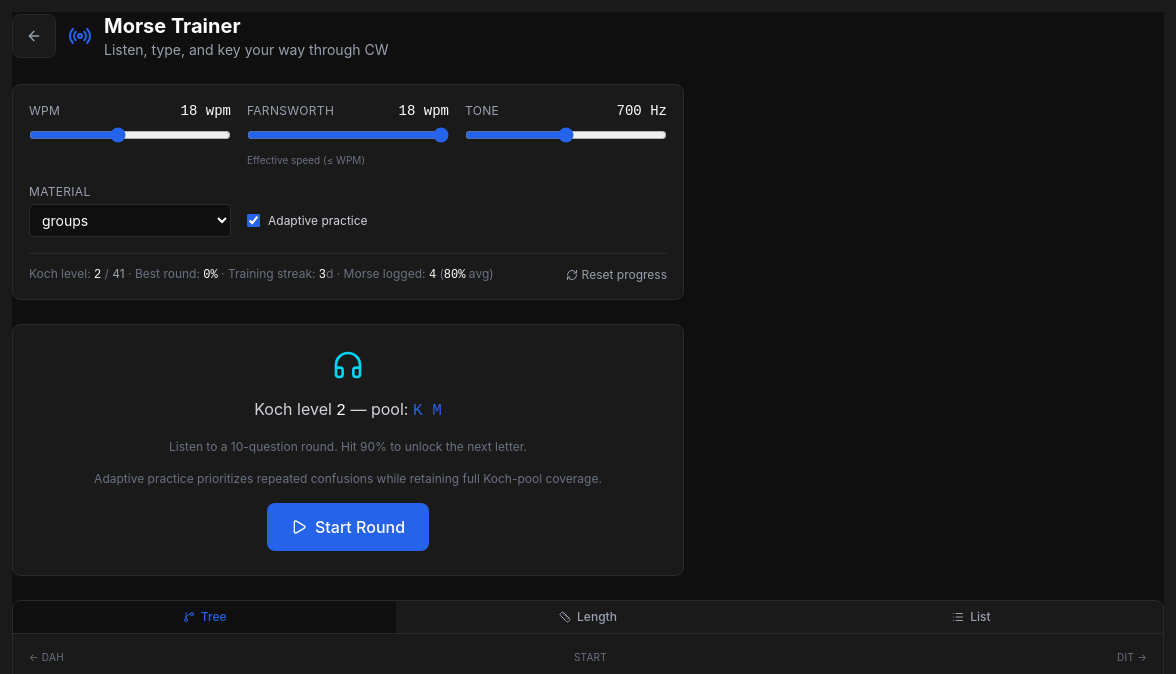
Scenario: MorseTrainer iOS audio unlock › awaits resume() before scheduling any tone (no oscillator while suspended)
What coordinates should you click on to do the following:
click the button "Start Round"
I would click on:
 (348, 527)
Its box is [267,503,429,551].
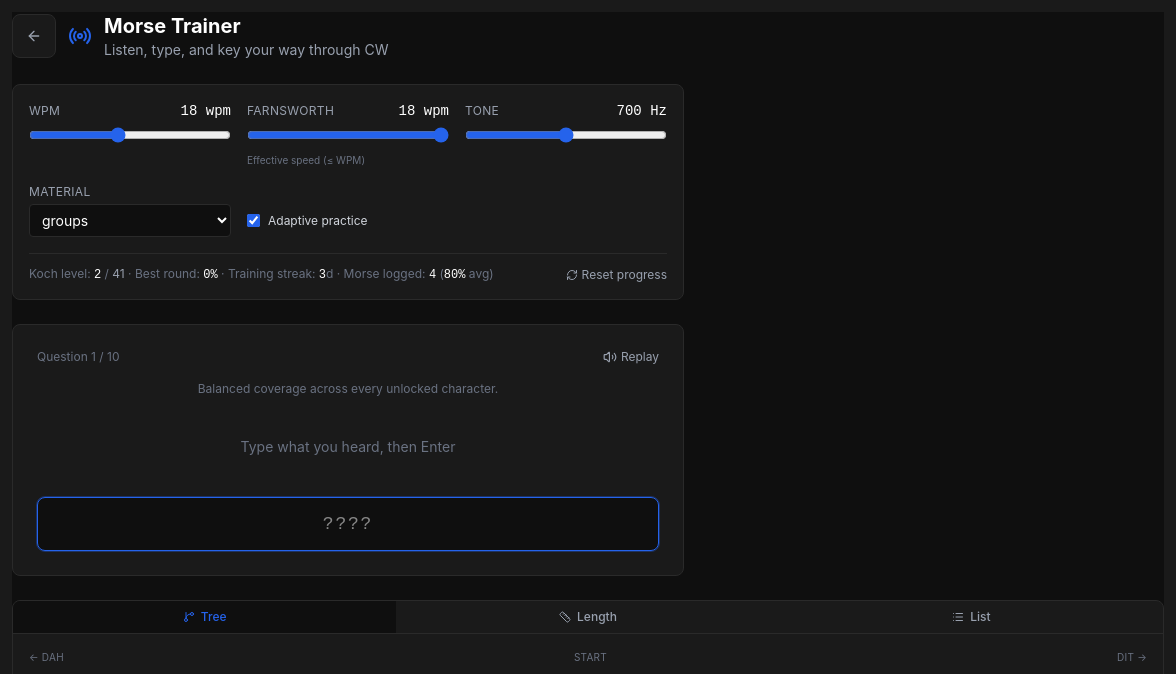
Result: the field with placeholder "????" is shown at [37,497,659,551]
